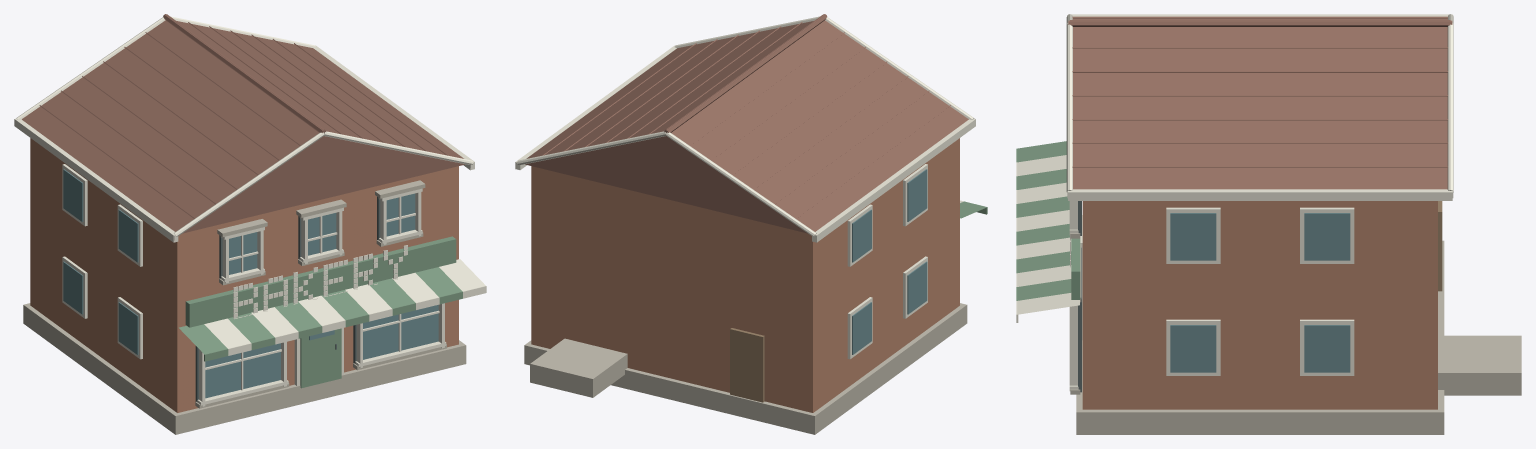
3 renders of one model, left to right at view 1: azimuth 30°, elevation 25°; view 2: azimuth 150°, elevation 25°; view 3: azimuth 270°, elevation 25°, orthographic. The views are drawn at different scales.
Bounding box in the file's own units: 10.06 × 8.67 × 12.09.
